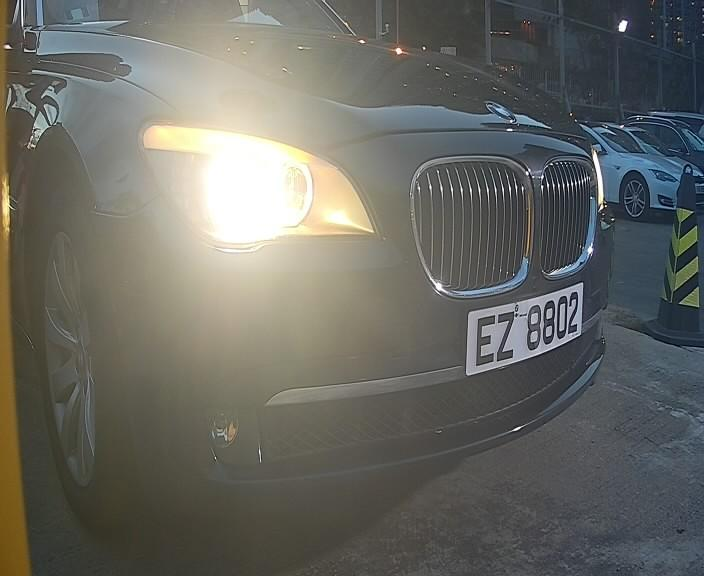License Plate: (450, 273, 588, 381)
